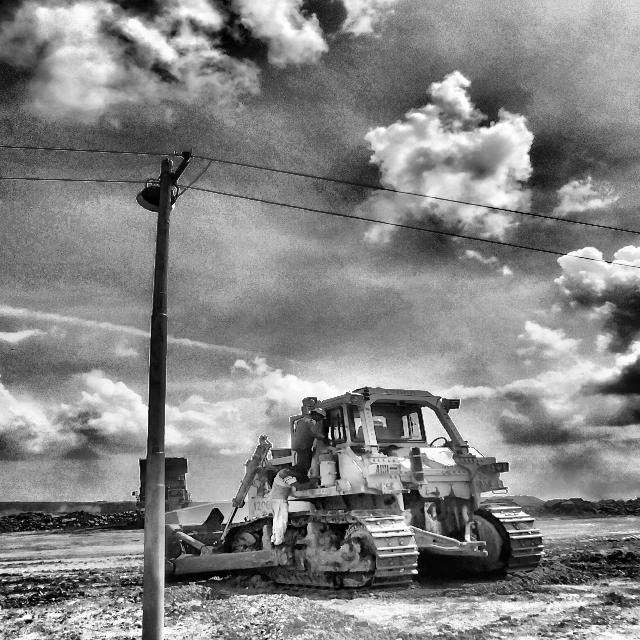buldozerpayloadergrader: (176, 390, 534, 582)
